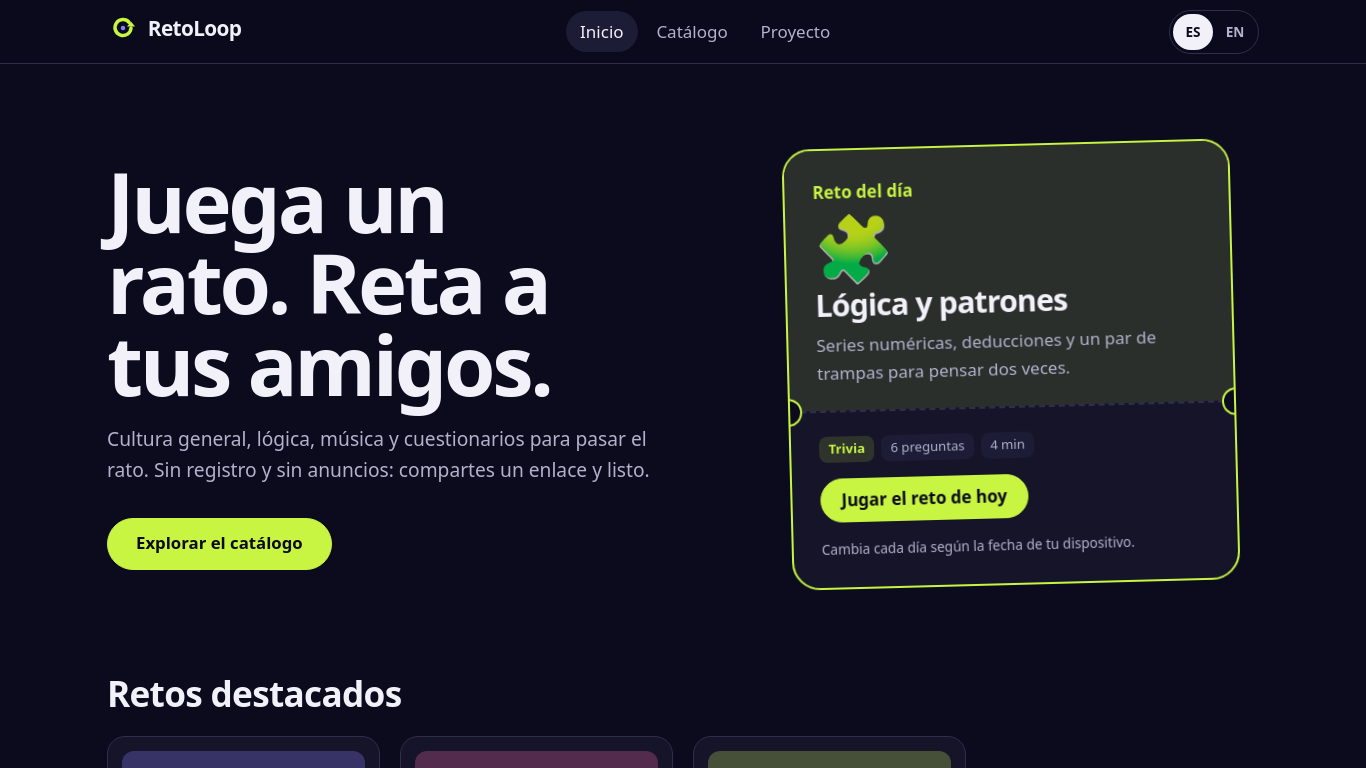
Test: portada › los enlaces principales llevan a donde dicen
Click the link "Explorar el catálogo": coordinates (219, 544) top-left (107, 518), bottom-right (332, 570)
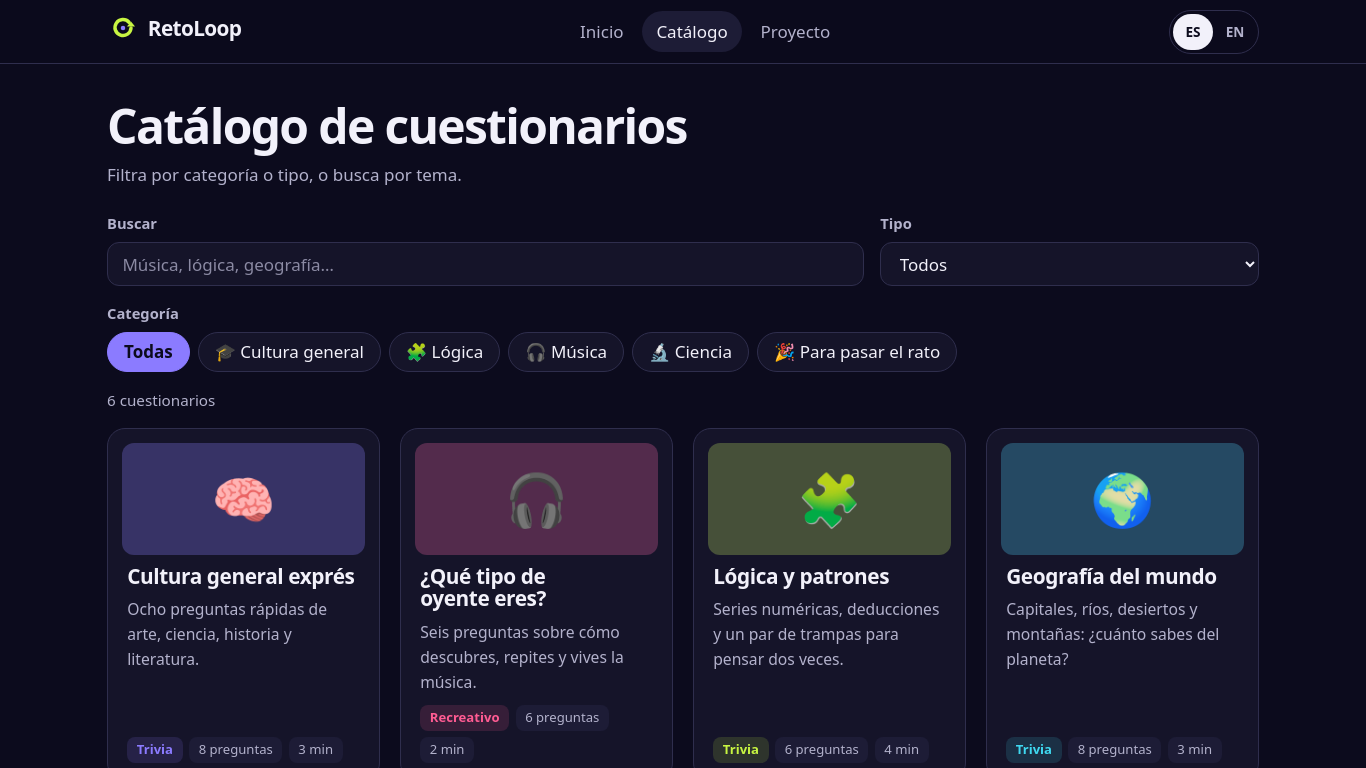
expect the heading "Catálogo de cuestionarios" is shown: met, box top-left (107, 93), bottom-right (687, 158)
Click the link "Inicio": coordinates (602, 32) top-left (580, 20), bottom-right (624, 43)
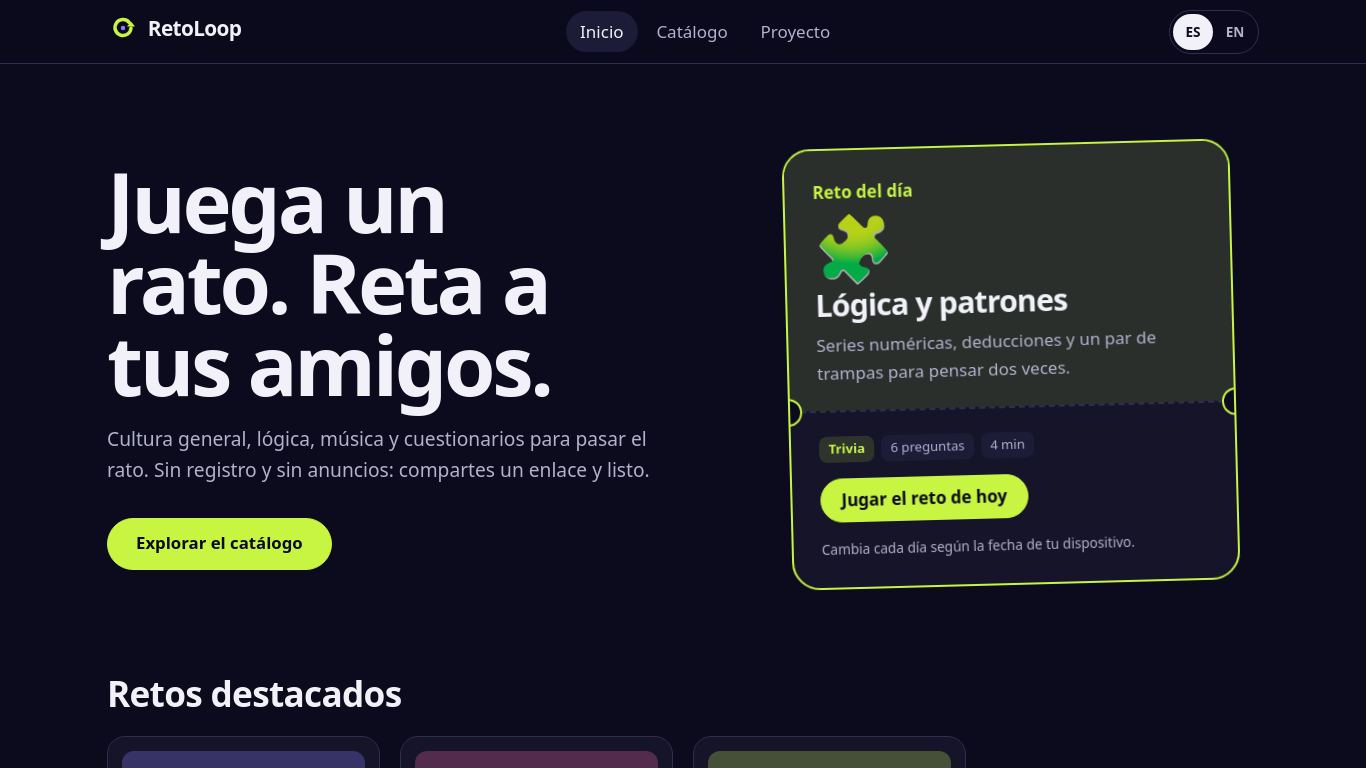
Click the link "Jugar el reto de hoy": coordinates (924, 498) top-left (820, 473), bottom-right (1028, 523)
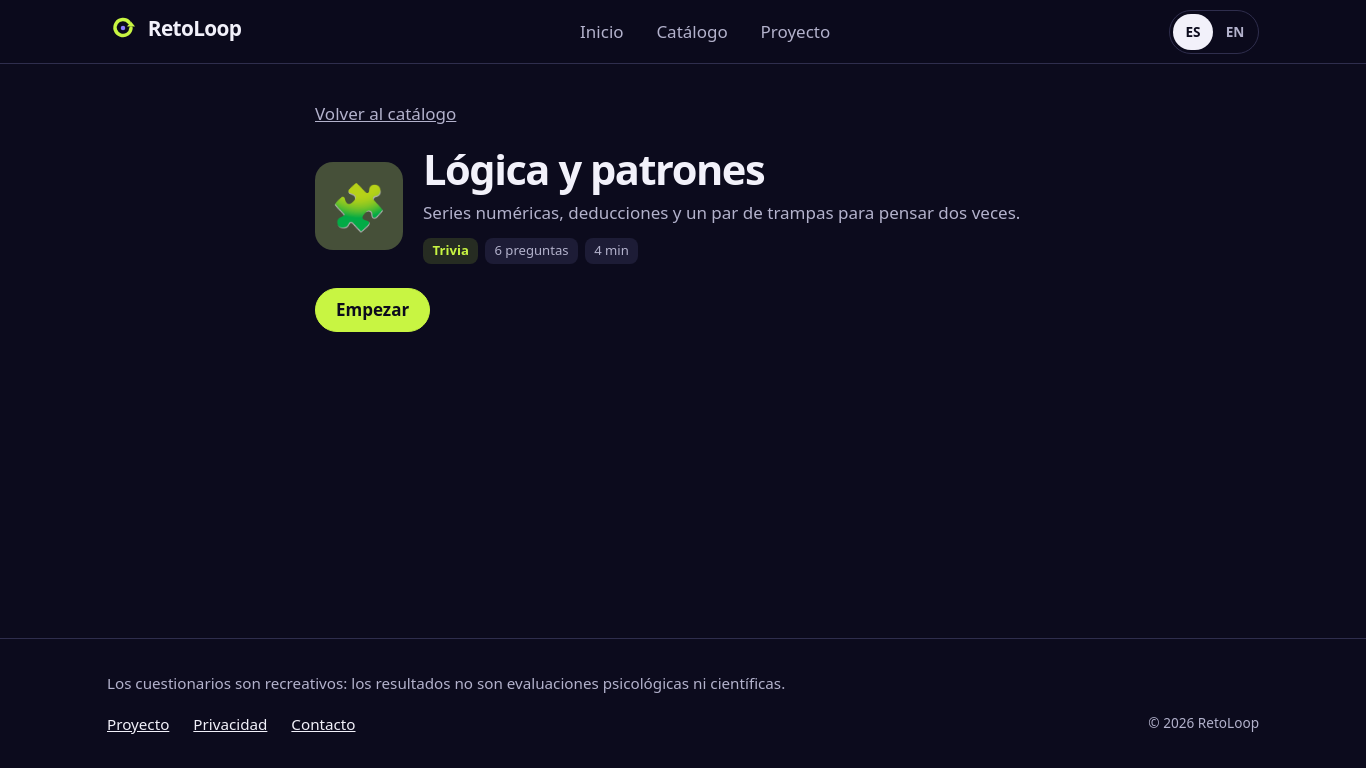
expect the button "Empezar" is shown: met, box top-left (315, 288), bottom-right (430, 332)
